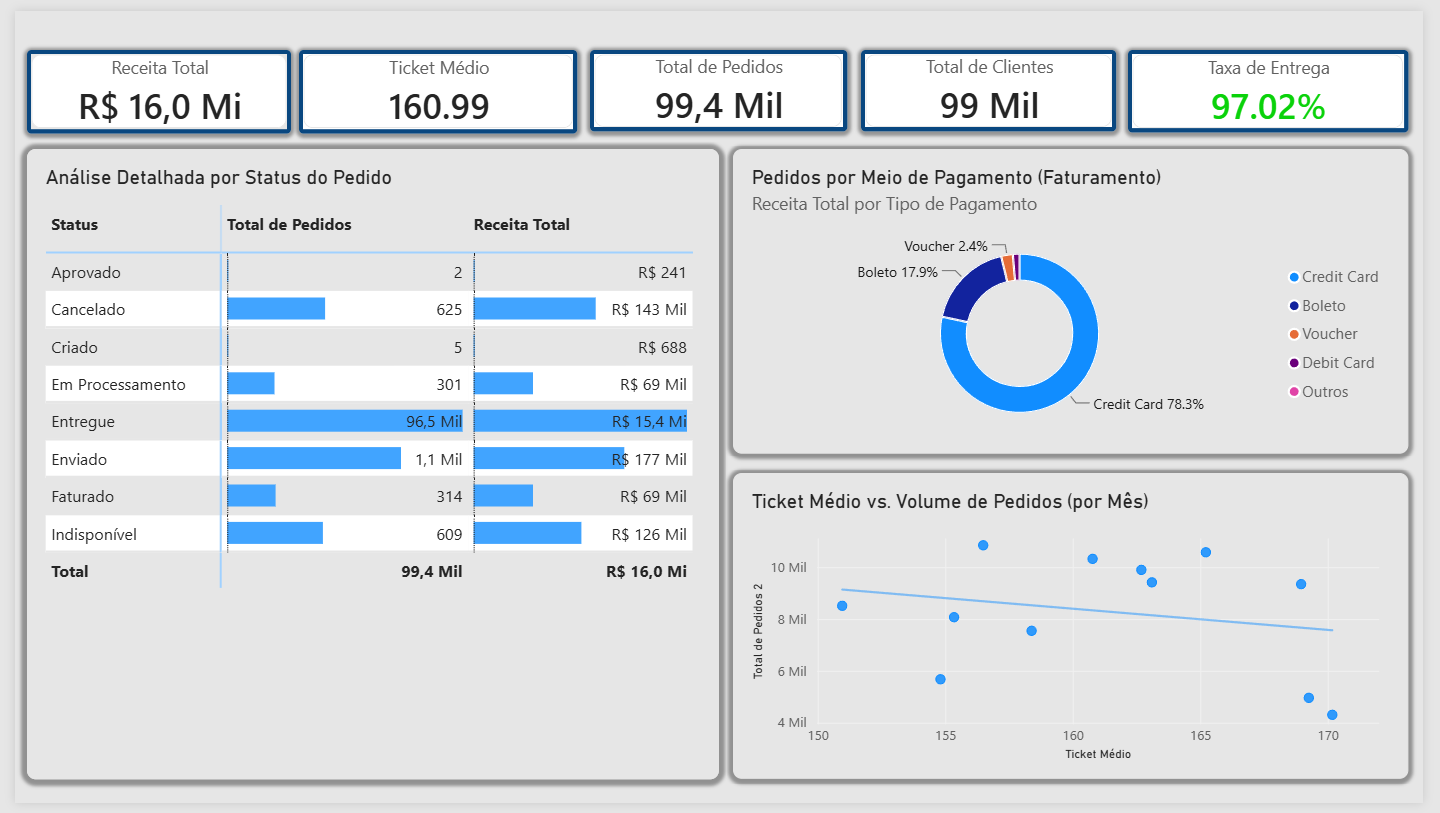

The page's visual inventory and layout, read from the dashboard file:
{"tool":"powerbi","page":{"name":"Visão Analítica","canvas":[1280,720],"ordinal":1},"visuals":[{"type":"cardVisual","fields":{"Data":["olist_order_payments_dataset.Receita Total"]},"box":[11.3,35.1,240.3,75.8],"z":0},{"type":"cardVisual","fields":{"Data":["olist_orders_dataset.Total de Pedidos"]},"box":[522.6,35.1,233.9,74.2],"z":1000},{"type":"cardVisual","fields":{"Data":["olist_order_payments_dataset.Ticket Médio"]},"box":[258.1,35.1,253.2,75.8],"z":2000},{"type":"cardVisual","fields":{"Data":["olist_orders_dataset.Total de Clientes"]},"box":[769.4,35.1,232.3,74.2],"z":3000},{"type":"cardVisual","fields":{"Data":["olist_orders_dataset.Taxa de Entrega"]},"box":[1012.1,35.1,255,75.3],"z":4000},{"type":"pivotTable","title":"Análise Detalhada por Status do Pedido","fields":{"Rows":["olist_orders_dataset.Status Traduzido"],"Values":["olist_orders_dataset.Total de Pedidos","olist_order_payments_dataset.Receita Total"]},"box":[10.9,125.5,629.1,572.7],"z":5000,"group":"g1"},{"type":"donutChart","title":"Pedidos por Meio de Pagamento (Faturamento)","fields":{"Category":["olist_order_payments_dataset.Tipo de Pagamento"],"Y":["olist_order_payments_dataset.Receita Total"]},"box":[653,125,614,277],"z":6000},{"type":"scatterChart","title":"Ticket Médio vs. Volume de Pedidos (por Mês)","fields":{"Category":["olist_orders_dataset.order_purchase_timestamp.Variation.Hierarquia de datas.Mês"],"X":["olist_order_payments_dataset.Ticket Médio"],"Y":["olist_orders_dataset.Total de Pedidos 2"]},"box":[653,420,614,278],"z":7000},{"type":"shape","box":[163.6,176.4,47.3,43.6],"z":11000,"group":"g1"},{"type":"group","id":"g1","title":"Grupo 1","box":[10.9,125.5,629.1,572.7],"z":11001}]}

Visuals, with their boxes in screenshot pixels (x1, y1, x2, y2), scaled from the page's 1280x720 canvas onto the 1440x813 screenshot:
cardVisual - olist_order_payments_dataset.Receita Total: 13, 40, 283, 125
cardVisual - olist_orders_dataset.Total de Pedidos: 588, 40, 851, 123
cardVisual - olist_order_payments_dataset.Ticket Médio: 290, 40, 575, 125
cardVisual - olist_orders_dataset.Total de Clientes: 866, 40, 1127, 123
cardVisual - olist_orders_dataset.Taxa de Entrega: 1139, 40, 1425, 125
"Análise Detalhada por Status do Pedido" pivotTable: 12, 142, 720, 788
"Pedidos por Meio de Pagamento (Faturamento)" donutChart: 735, 141, 1425, 454
"Ticket Médio vs. Volume de Pedidos (por Mês)" scatterChart: 735, 474, 1425, 788
shape: 184, 199, 237, 248
"Grupo 1" group: 12, 142, 720, 788
